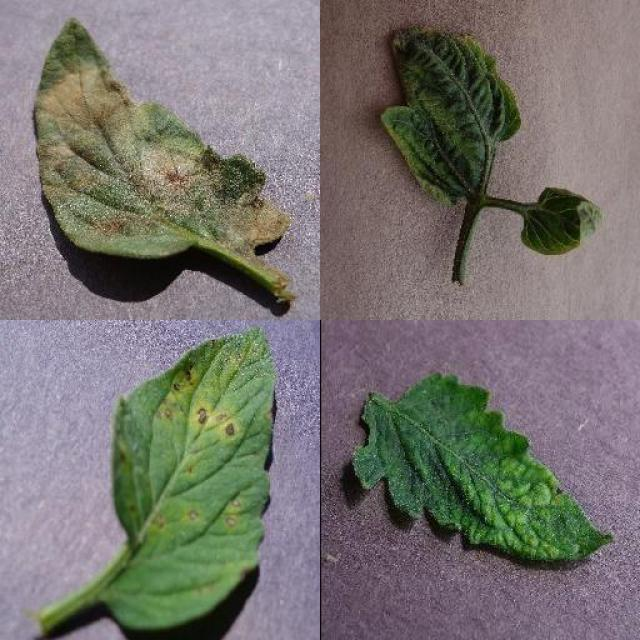Late Blight: (31, 12, 295, 262)
Septoria: (110, 326, 279, 632)
